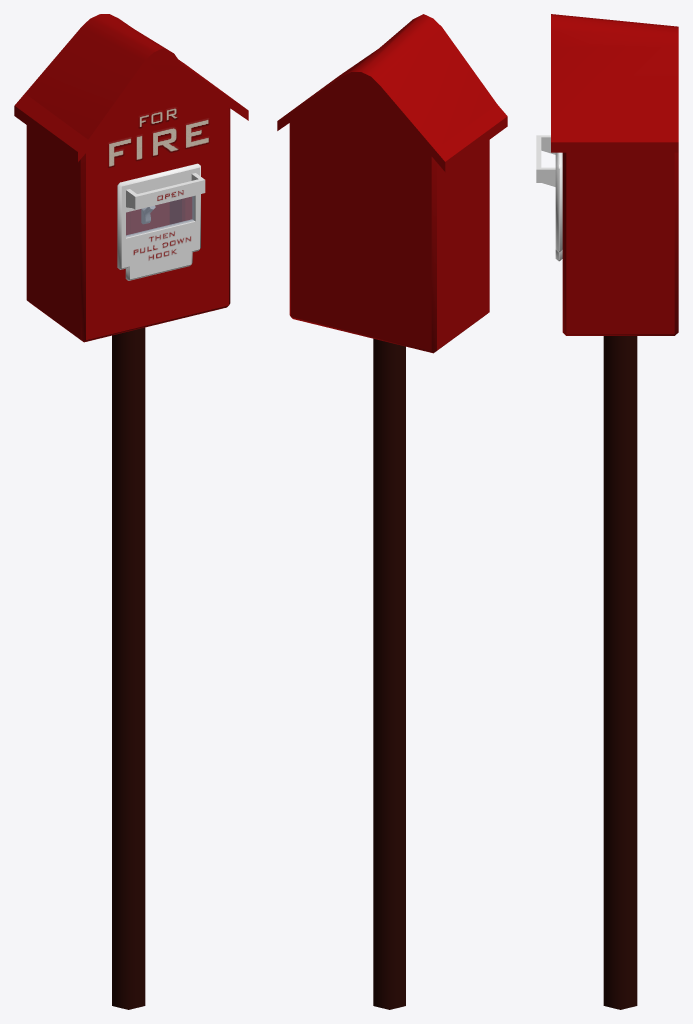
The model's file is brandalarm paal.dae.
3 renders of one model, left to right at view 1: azimuth 30°, elevation 25°; view 2: azimuth 150°, elevation 25°; view 3: azimuth 270°, elevation 25°, orthographic. The views are drawn at different scales.
Parts seen in each view (by area): view 1: brandalarm (×3), paal, brandalarm_hendel (×3), hendel_glas (×2); view 2: brandalarm, paal; view 3: brandalarm, paal, brandalarm_hendel (×2).
Boxes of the visible parts, x1,y1,x2,y2 form: brandalarm (×3): [14, 14, 248, 342]; paal: [112, 327, 145, 1009]; brandalarm_hendel (×3): [117, 163, 205, 280]; hendel_glas (×2): [126, 196, 194, 237]; brandalarm: [277, 14, 507, 353]; paal: [373, 338, 405, 1009]; brandalarm: [551, 14, 678, 335]; paal: [603, 336, 637, 1009]; brandalarm_hendel (×2): [536, 135, 562, 261].
Size of the model in its own units: 0.2572 by 0.1845 by 1.41.
Materials: 6 (2 with a texture image).
